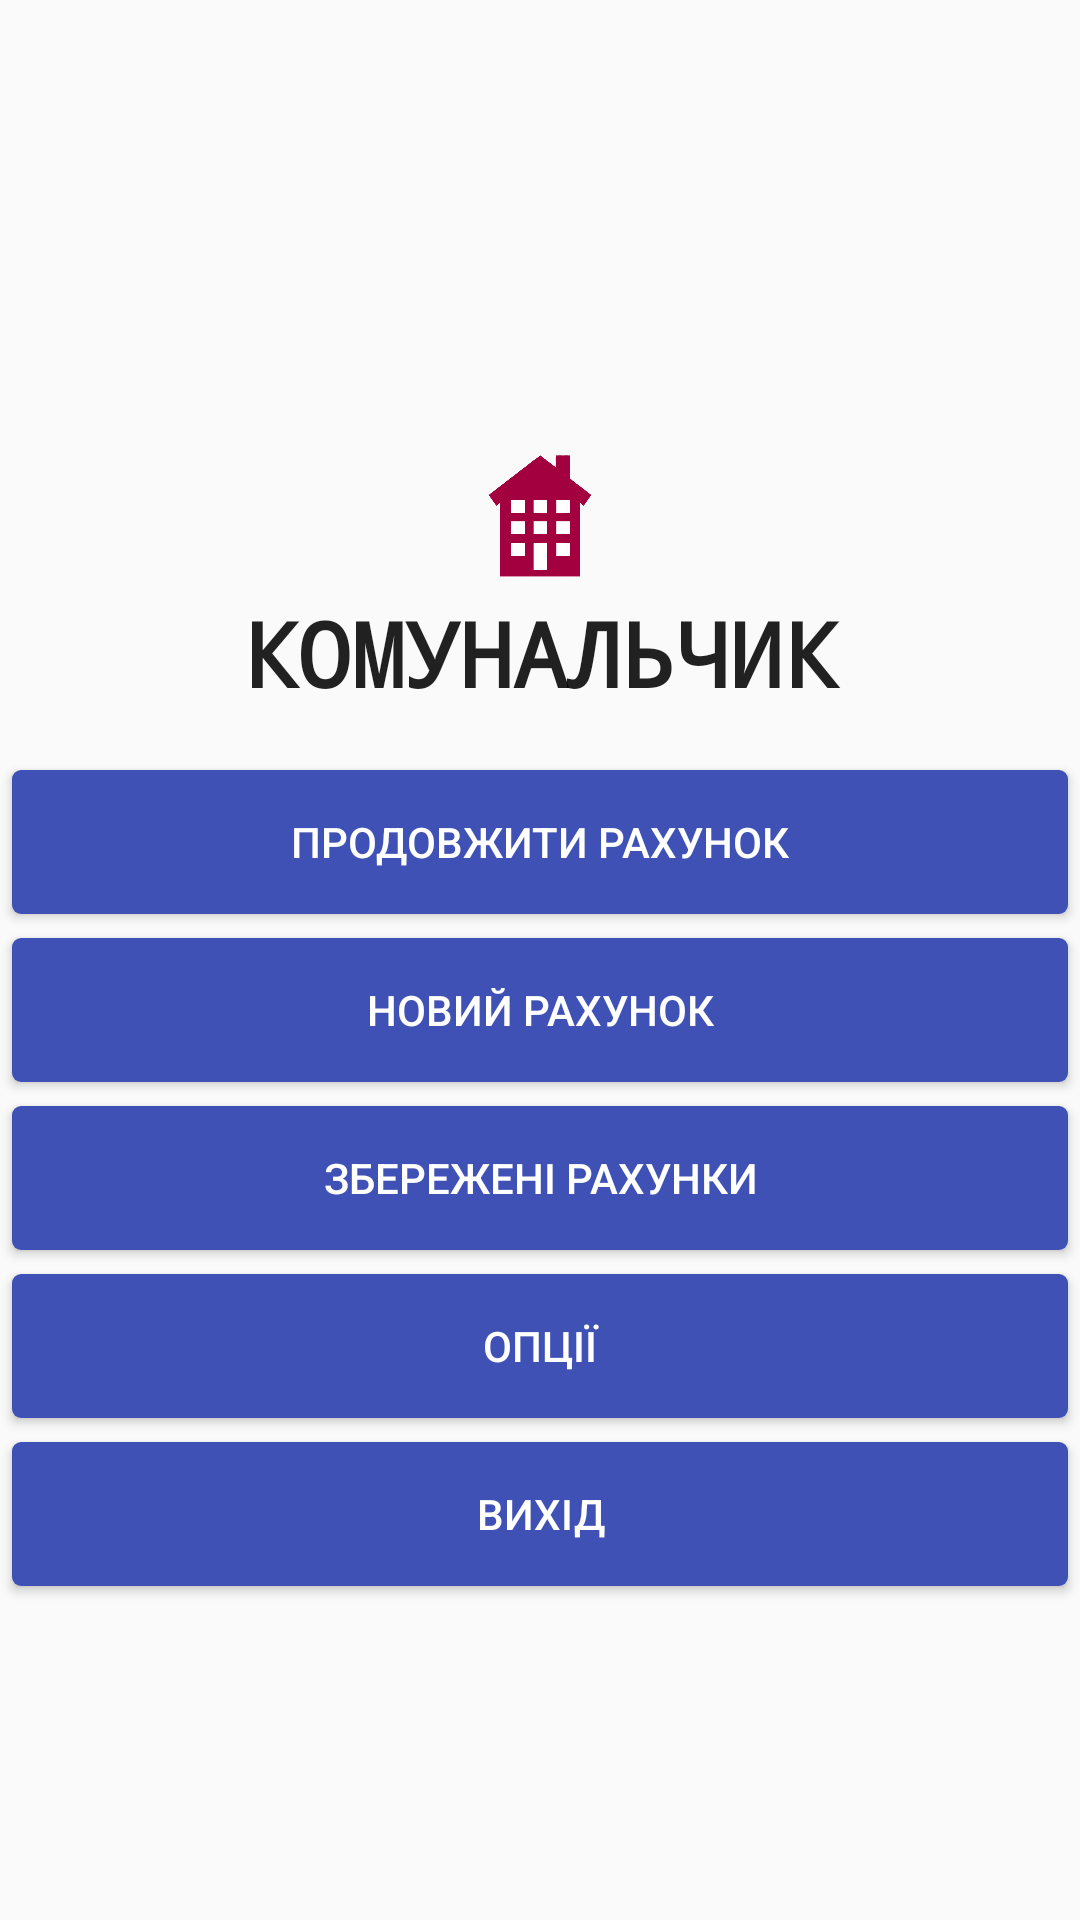

Named icons in this screenshot (1080px×1920px) and their bounding boxes, Rect(x1, y1, x2, y2):
kommunalchik: Rect(489, 455, 591, 577)
